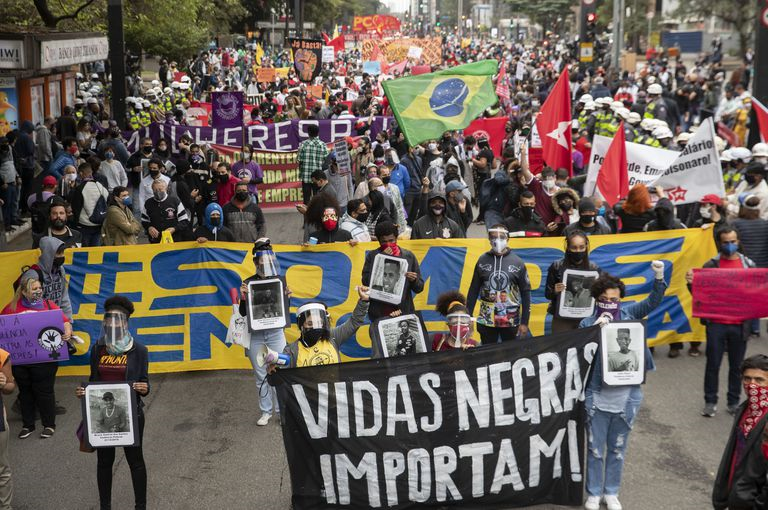with_mask: (591, 281, 625, 315), (742, 370, 768, 406), (99, 311, 130, 340), (298, 312, 326, 343), (444, 310, 473, 339), (253, 250, 277, 277), (567, 234, 589, 263), (20, 279, 45, 303), (376, 230, 400, 255), (317, 207, 339, 230), (489, 228, 510, 252), (718, 231, 738, 255), (427, 198, 448, 219), (698, 201, 719, 222), (48, 247, 68, 269), (519, 196, 538, 217), (234, 183, 251, 203), (351, 205, 371, 222), (204, 209, 223, 226), (576, 210, 599, 223), (114, 191, 132, 206)
without_mask: (46, 206, 69, 229)
